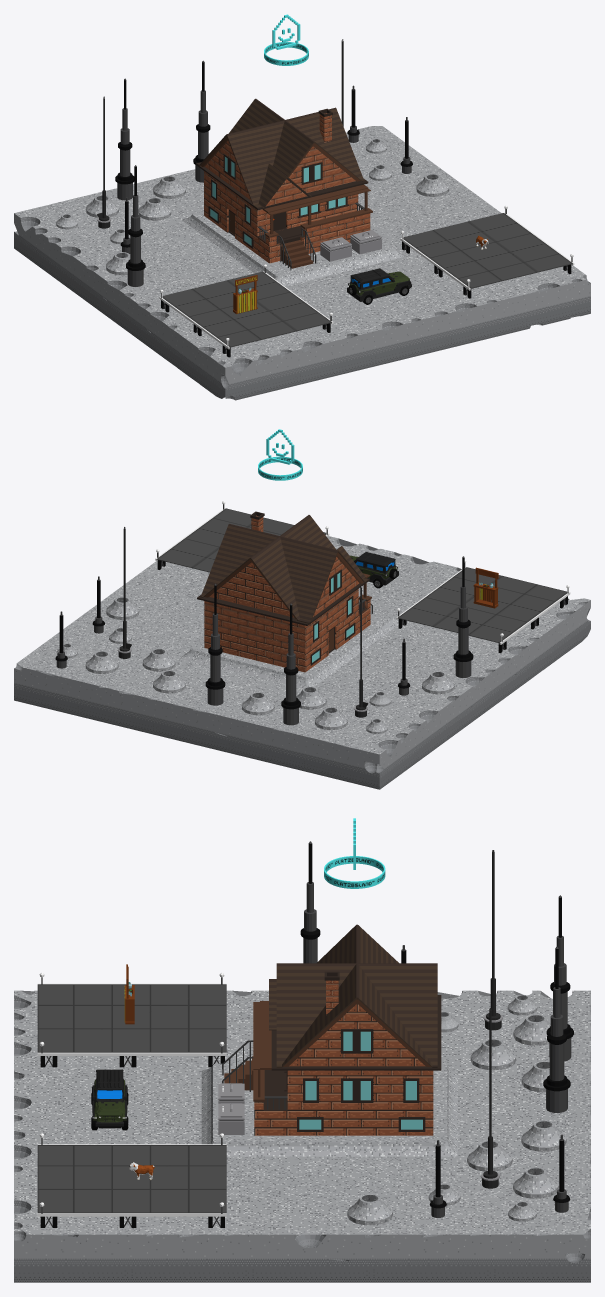
3 renders of one model, top to bottom at view 1: azimuth 30°, elevation 25°; view 2: azimuth 150°, elevation 25°; view 3: azimuth 270°, elevation 25°, orthographic. The views are drawn at different scales.
Parts seen in each view (by area): view 1: Cube.027, Cube.469, Cube.026, Cube.025, Cube.028, VEHICLES_JEEP, Cylinder.021, Cylinder.020, Cylinder.017, TYPE_PREMIUM, OBJRANDOM_LEMONADE_STAND, Cube.029 (+4 smaller); view 2: Cube.027, Cube.469, Cube.025, Cube.028, Cube.026, Cylinder.017, Cylinder.021, Cylinder.020, VEHICLES_JEEP, TYPE_PREMIUM, OBJRANDOM_LEMONADE_STAND, Cylinder.030 (+8 smaller); view 3: Cube.027, Cube.469, Cube.026, Cube.025, Cube.028, Cylinder.017, VEHICLES_JEEP, Cylinder.020, Cylinder.021, TYPE_PREMIUM, Cylinder.033, Cylinder.031 (+10 smaller).
Boxes of the visible parts, <box> form: Cube.027: <box>14,126,590,400</box>; Cube.469: <box>196,98,372,269</box>; Cube.026: <box>400,205,574,298</box>; Cube.025: <box>159,264,333,357</box>; Cube.028: <box>182,211,403,286</box>; VEHICLES_JEEP: <box>347,268,411,304</box>; Cylinder.021: <box>126,165,145,286</box>; Cylinder.020: <box>115,78,134,200</box>; Cylinder.017: <box>193,60,210,182</box>; TYPE_PREMIUM: <box>264,14,308,65</box>; OBJRANDOM_LEMONADE_STAND: <box>233,275,257,313</box>; Cube.029: <box>320,237,351,261</box>; Cube.027: <box>14,536,590,789</box>; Cube.469: <box>197,511,372,672</box>; Cube.025: <box>396,560,570,653</box>; Cube.028: <box>181,610,398,688</box>; Cube.026: <box>155,501,329,572</box>; Cylinder.017: <box>205,583,225,705</box>; Cylinder.021: <box>453,556,473,677</box>; Cylinder.020: <box>281,603,300,725</box>; VEHICLES_JEEP: <box>349,552,398,588</box>; TYPE_PREMIUM: <box>258,429,302,480</box>; OBJRANDOM_LEMONADE_STAND: <box>473,567,498,608</box>; Cylinder.030: <box>142,648,175,671</box>; Cube.027: <box>14,990,590,1282</box>; Cube.469: <box>222,924,441,1135</box>; Cube.026: <box>37,1133,226,1227</box>; Cube.025: <box>37,973,226,1067</box>; Cube.028: <box>201,1063,457,1156</box>; Cylinder.017: <box>543,946,570,1112</box>; VEHICLES_JEEP: <box>91,1069,128,1130</box>; Cylinder.020: <box>546,895,573,1061</box>; Cylinder.021: <box>300,841,320,963</box>; TYPE_PREMIUM: <box>324,818,385,888</box>; Cylinder.033: <box>347,1194,392,1225</box>; Cylinder.031: <box>513,1167,558,1198</box>.
Size of the model in its own units: 4000 by 2703 by 4000.
Materials: 45 (6 with a texture image).
